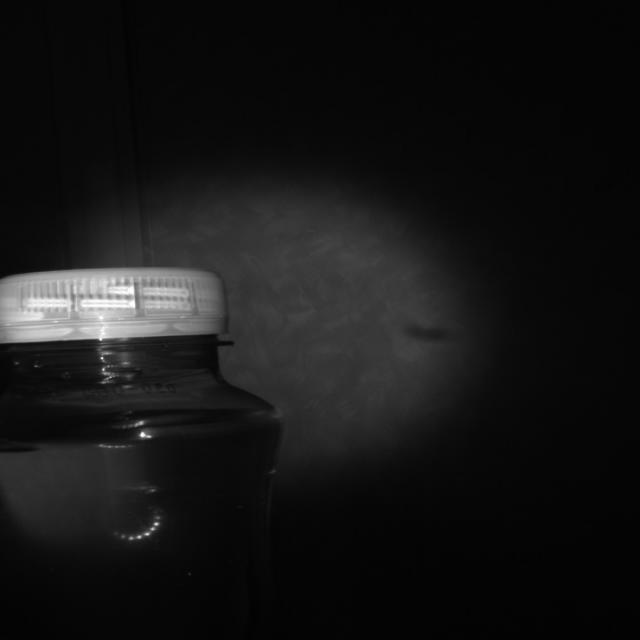Good: (0, 261, 230, 350)
